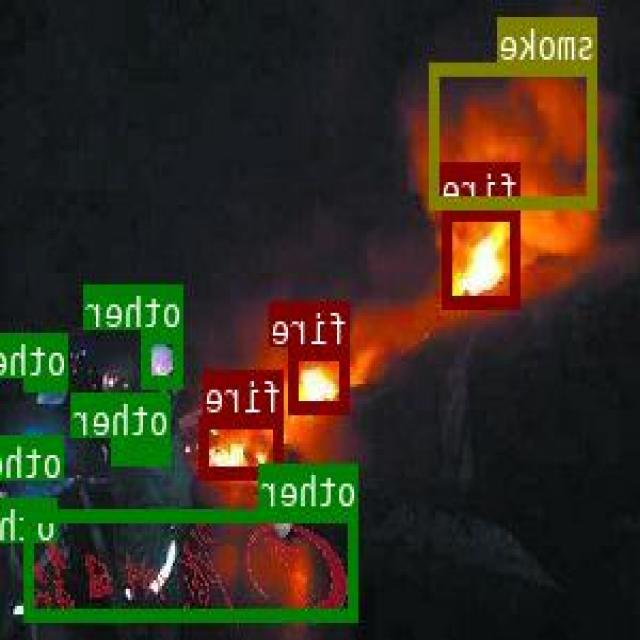fire: (445, 206, 521, 306), (201, 414, 285, 477), (292, 345, 350, 411)
other: (27, 507, 359, 617), (26, 332, 70, 388), (144, 328, 184, 387), (9, 434, 64, 463), (115, 436, 171, 464), (17, 498, 58, 520)
smoke: (433, 62, 599, 206)
